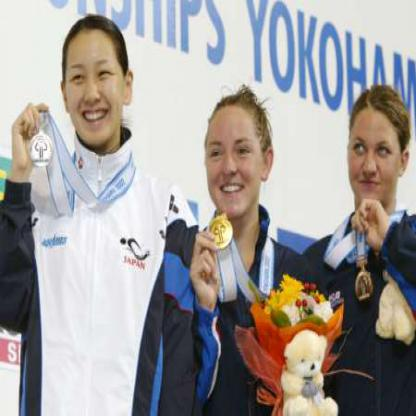face: (65, 19, 127, 147), (206, 95, 266, 218), (348, 91, 404, 212)
